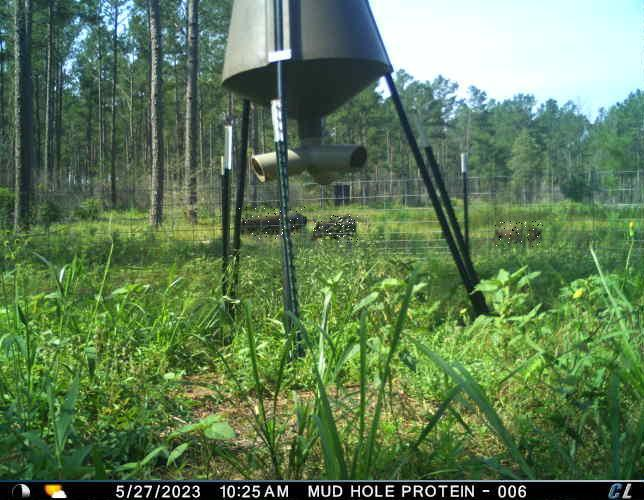Hog: (237, 208, 309, 240), (314, 214, 359, 244), (495, 221, 545, 248)
